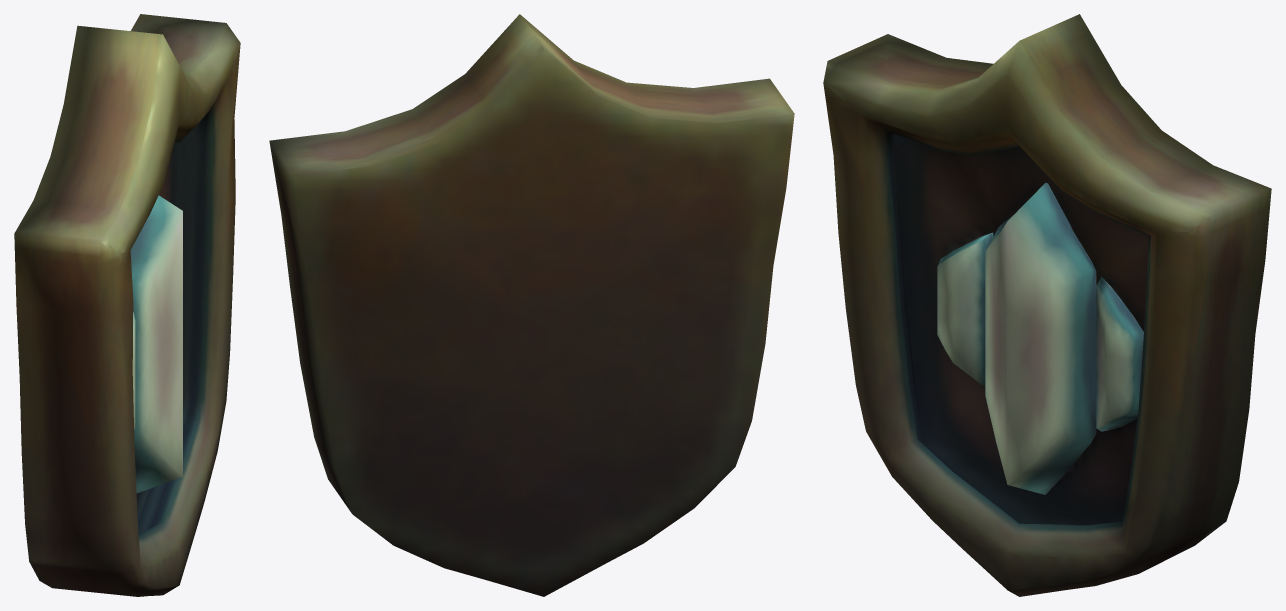
Rendered from Geo_IconFirewallIcon.fbx.
3 renders of one model, left to right at view 1: azimuth 30°, elevation 25°; view 2: azimuth 150°, elevation 25°; view 3: azimuth 270°, elevation 25°, orthographic. The views are drawn at different scales.
Parts seen in each view (by area): view 1: FW_Piece_LP.001; view 2: FW_Piece_LP.001; view 3: FW_Piece_LP.001.
Part boxes in pixels (x1,y1,x2,y2): FW_Piece_LP.001: (14,14,240,596); FW_Piece_LP.001: (269,14,794,596); FW_Piece_LP.001: (823,14,1271,596).
Size of the model in its own units: 28.13 by 39.74 by 29.03.
